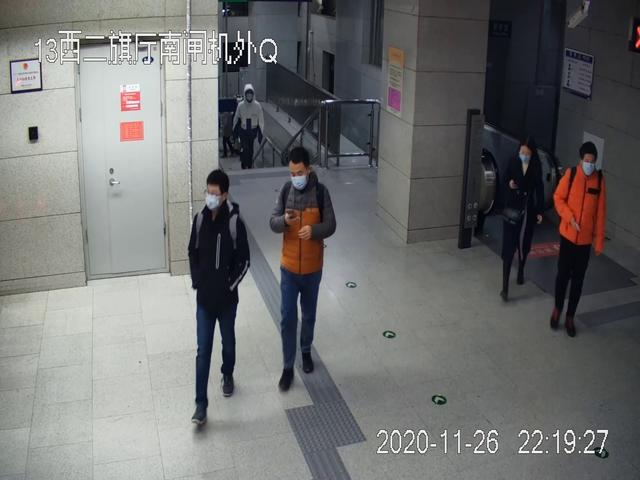person: (269, 146, 339, 393), (187, 169, 250, 427), (549, 142, 607, 338), (495, 136, 543, 301), (230, 82, 264, 173)
